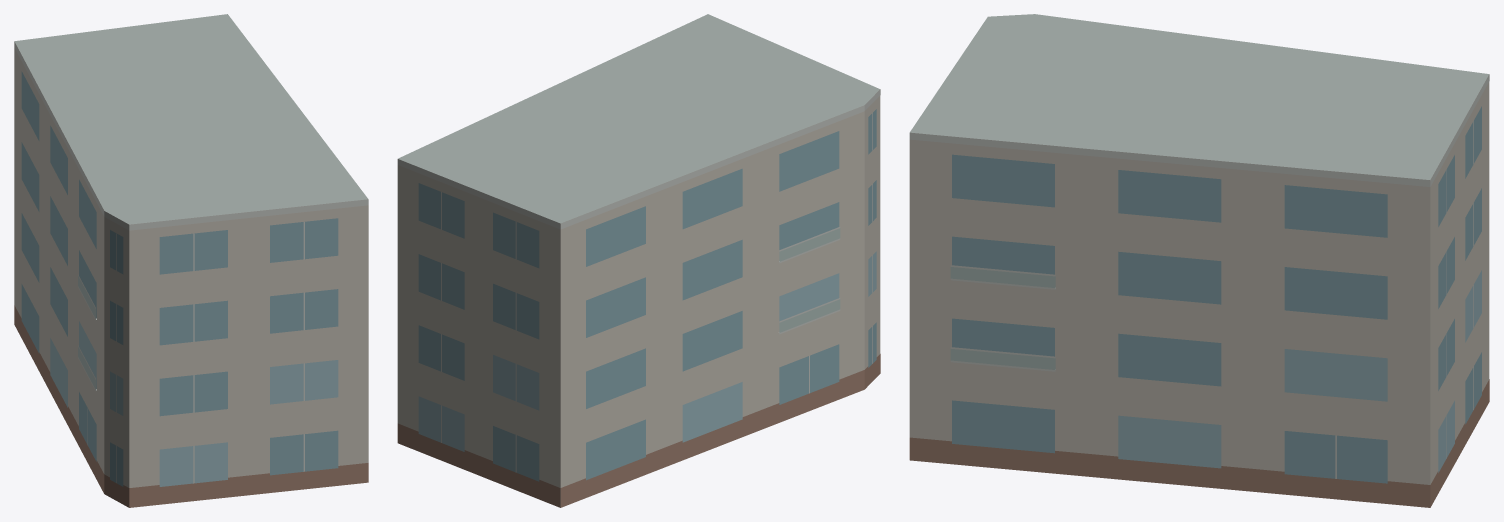
File: survey-upis-32826579.glb
3 renders of one model, left to right at view 1: azimuth 30°, elevation 25°; view 2: azimuth 150°, elevation 25°; view 3: azimuth 270°, elevation 25°, orthographic. The views are drawn at different scales.
Visible parts, largest first — view 1: survey-upis-32826579.tmp; view 2: survey-upis-32826579.tmp; view 3: survey-upis-32826579.tmp.
Boxes of the visible parts, left/top/right/bottom form: survey-upis-32826579.tmp: left=14, top=14, right=368, bottom=507; survey-upis-32826579.tmp: left=397, top=14, right=880, bottom=507; survey-upis-32826579.tmp: left=909, top=14, right=1489, bottom=507.
Size of the model in its own units: 12.46 by 11.45 by 18.37.
